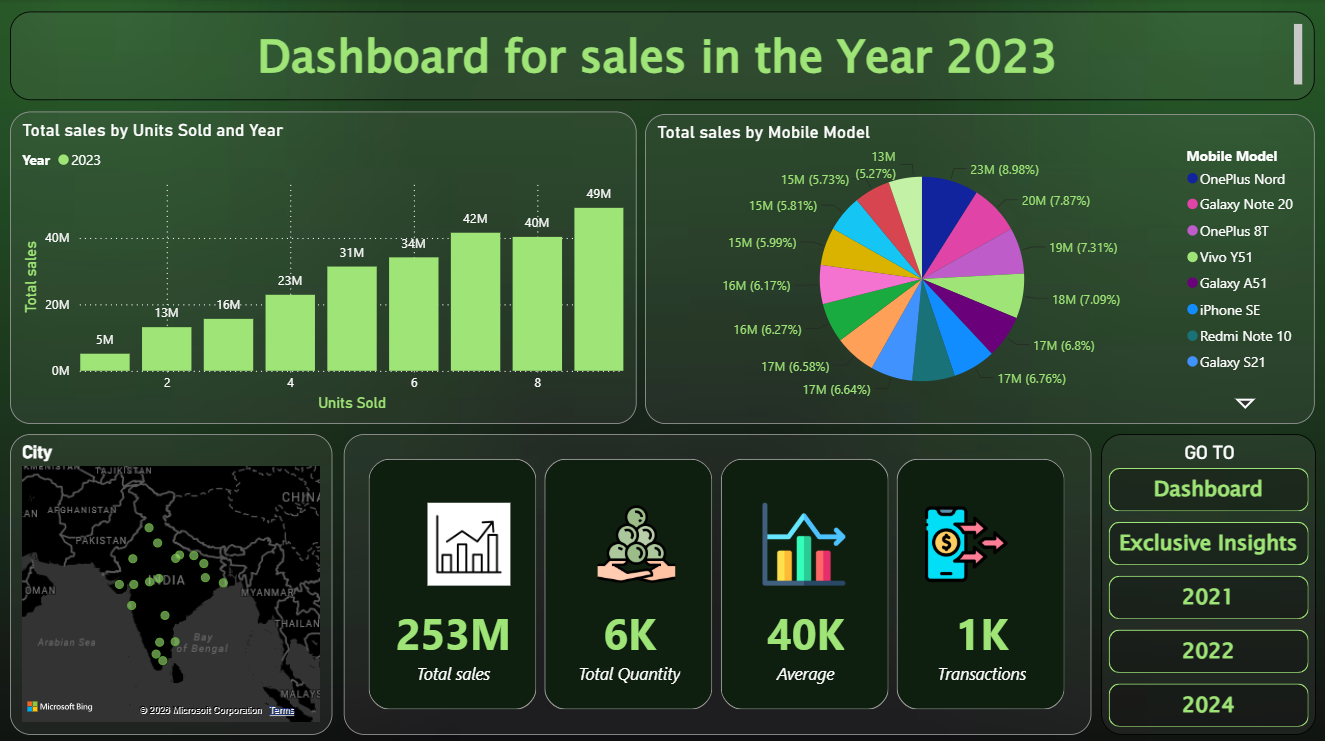

What the dashboard file says about the page in this screenshot:
{"tool":"powerbi","page":{"name":"2023","canvas":[1280,720],"ordinal":4},"visuals":[{"type":"textbox","box":[9.7,12.1,1259.5,85.7],"z":0},{"type":"columnChart","fields":{"Y":["Sales_data.Total sales"],"Category":["Sales_data.Units Sold"],"Series":["Sales_data.Date.Variation.Date Hierarchy.Year"]},"box":[9.7,108.6,604.4,301.6],"z":1000},{"type":"pieChart","fields":{"Category":["Sales_data.Mobile Model"],"Y":["Sales_data.Total sales"]},"box":[622.5,111,646.7,299.2],"z":2000},{"type":"map","fields":{"Category":["Sales_data.City"]},"box":[10,420,311.4,290],"z":3000},{"type":"cardVisual","fields":{"Data":["Sales_data.Total sales","Sales_data.Total Quantity","Sales_data.Average","Sales_data.Transactions"]},"box":[331.4,420,721.4,290],"z":4000},{"type":"pageNavigator","title":"GO TO","box":[1062.9,420,207.1,290],"z":5000},{"type":"image","box":[574.3,485.7,80,80],"z":6000},{"type":"image","box":[735.7,485.7,80,80],"z":7000},{"type":"image","box":[892.9,485.7,80,80],"z":8000},{"type":"image","box":[412.9,485.7,80,80],"z":9000}]}

Visuals, with their boxes in screenshot pixels (x1, y1, x2, y2), scaled from the page's 1280x720 canvas onto the 1325x741 screenshot:
textbox: x1=10 y1=12 x2=1314 y2=101
columnChart - Sales_data.Total sales x Sales_data.Units Sold: x1=10 y1=112 x2=636 y2=422
pieChart - Sales_data.Mobile Model x Sales_data.Total sales: x1=644 y1=114 x2=1314 y2=422
map - Sales_data.City: x1=10 y1=432 x2=333 y2=731
cardVisual - Sales_data.Total sales x Sales_data.Total Quantity: x1=343 y1=432 x2=1090 y2=731
"GO TO" pageNavigator: x1=1100 y1=432 x2=1315 y2=731
image: x1=594 y1=500 x2=677 y2=582
image: x1=762 y1=500 x2=844 y2=582
image: x1=924 y1=500 x2=1007 y2=582
image: x1=427 y1=500 x2=510 y2=582
